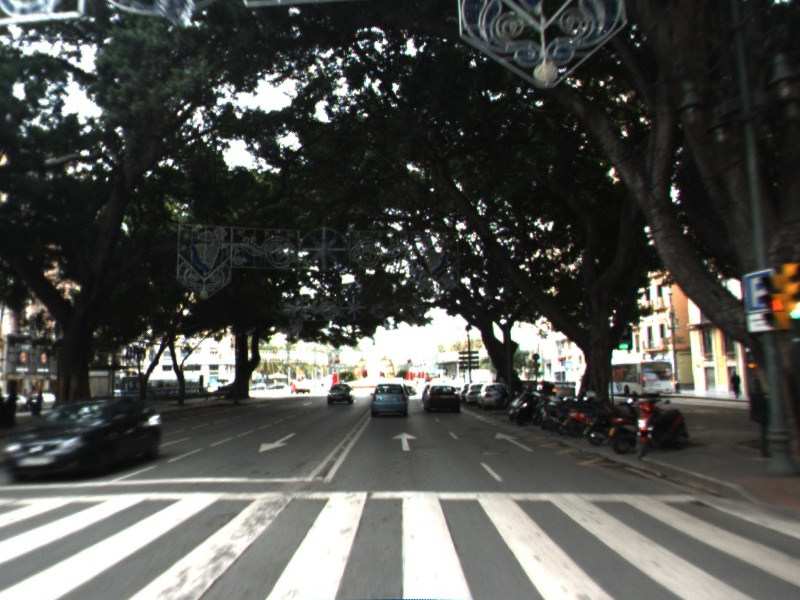STRAIGHT: (493, 430, 537, 454), (389, 430, 420, 453)
